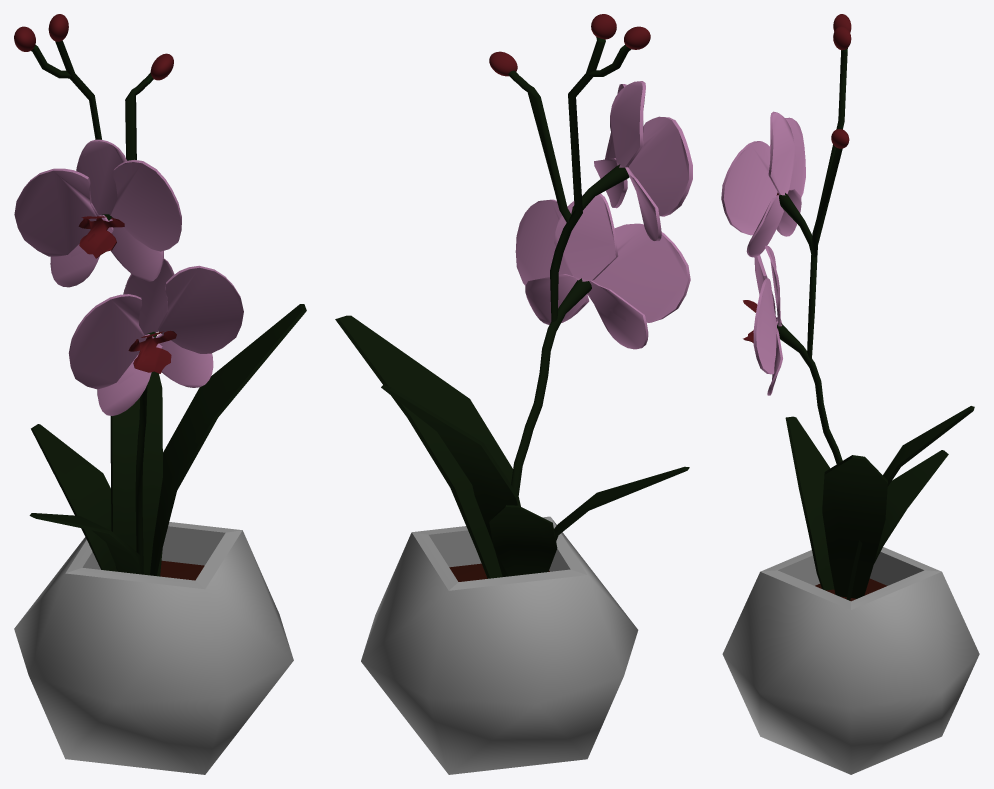
The model's file is Orchid_422.obj.
3 views of the same model, side by side, from view 1: azimuth 30°, elevation 25°; view 2: azimuth 150°, elevation 25°; view 3: azimuth 270°, elevation 25° (orthographic). The views are drawn at different scales.
Visible parts, largest first — view 1: Box003, GeoSphere001; view 2: Box003, GeoSphere001; view 3: GeoSphere001, Box003.
Part boxes in pixels (bbox=[...]): Box003: bbox=[14, 14, 306, 576]; GeoSphere001: bbox=[14, 522, 293, 774]; Box003: bbox=[335, 14, 692, 578]; GeoSphere001: bbox=[361, 516, 638, 774]; GeoSphere001: bbox=[722, 547, 979, 774]; Box003: bbox=[721, 14, 974, 600].
Bounding box in the file's own units: 53.66 × 119 × 41.56.
